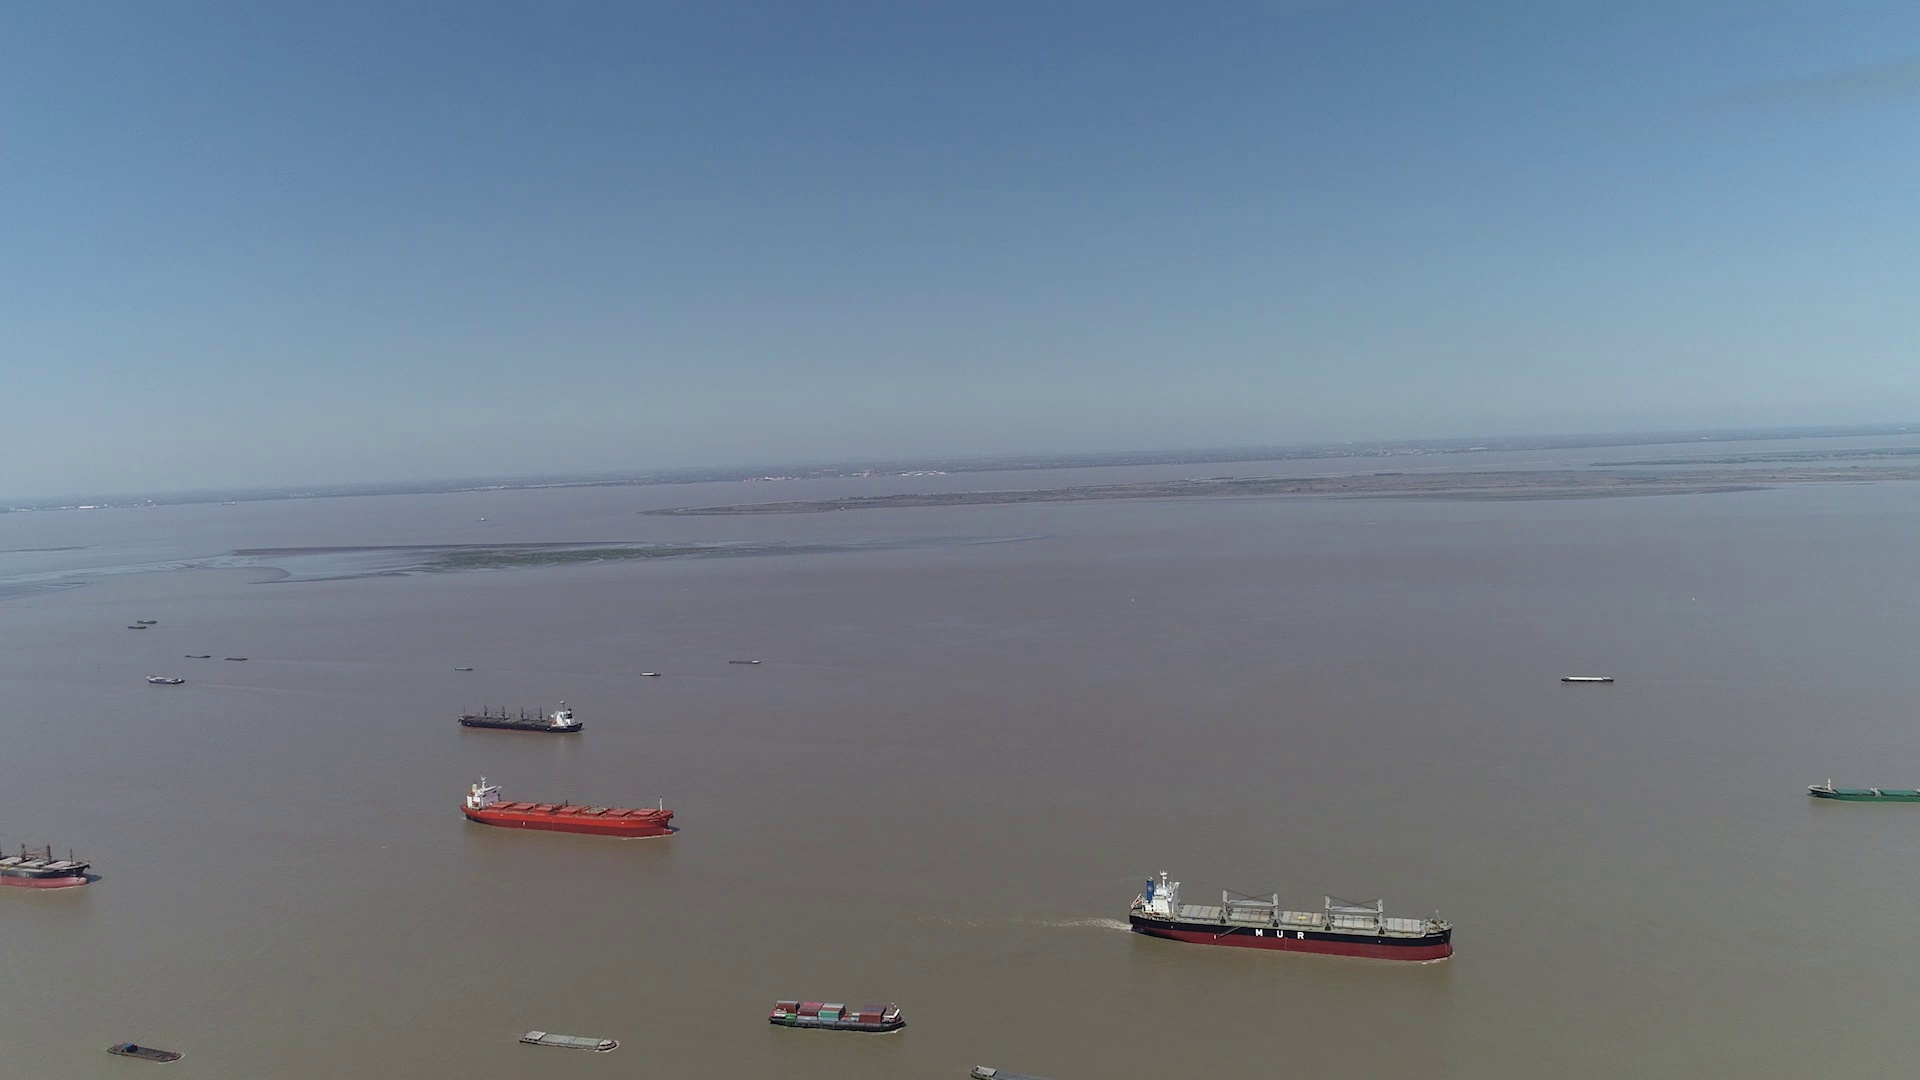ship: (1127, 870, 1453, 961), (460, 773, 676, 837), (1, 831, 94, 890), (767, 1000, 905, 1034), (462, 702, 579, 733), (1809, 778, 1920, 802), (517, 1029, 617, 1054), (109, 1040, 183, 1062), (1561, 676, 1614, 684), (146, 675, 183, 686)
